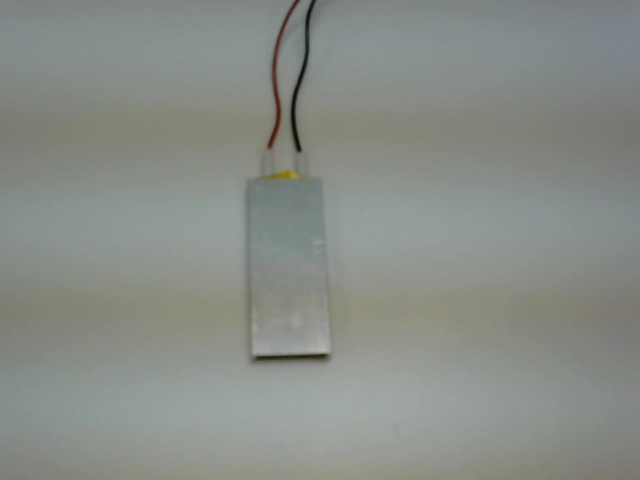heater: (228, 136, 352, 372)
